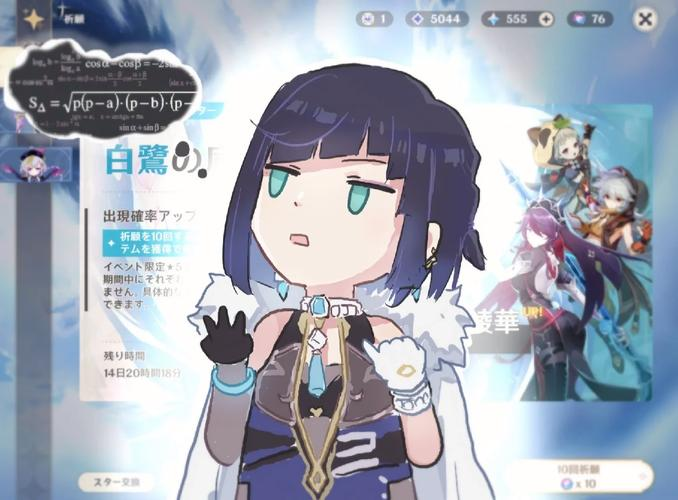夜兰: (179, 63, 481, 500)
